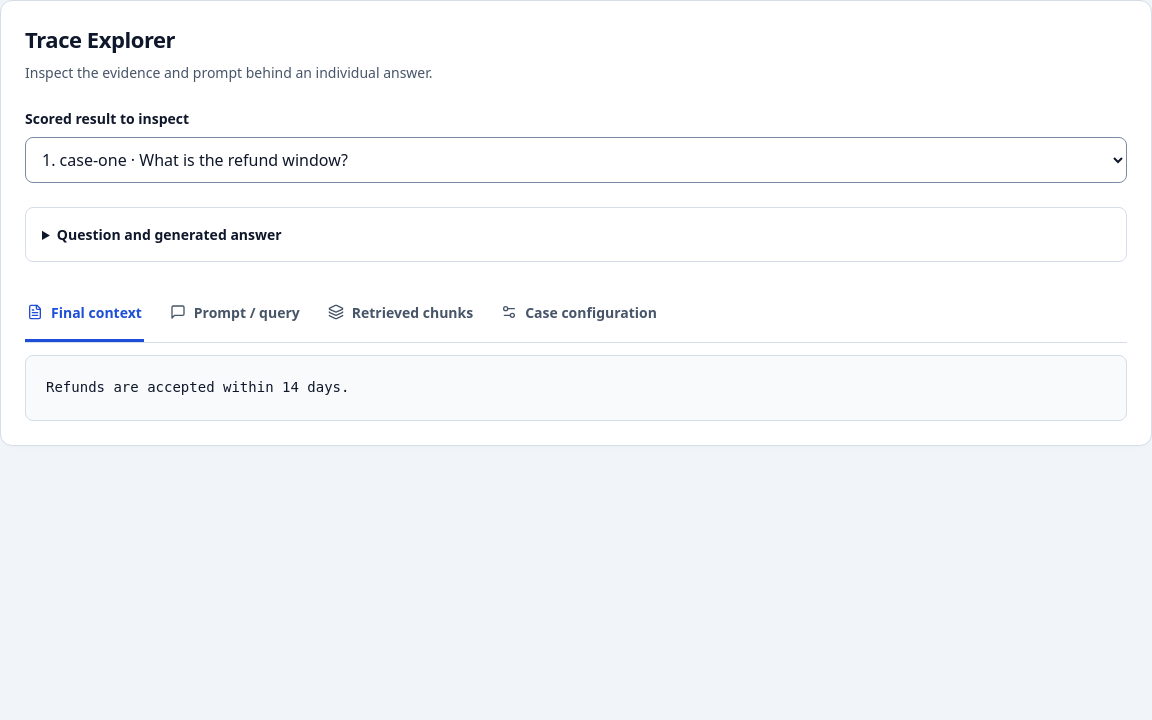
it: workspace workflows › shows saved context, rewritten queries and chunk evidence
The width and height of the screenshot is (1152, 720).
Check: the text "Refunds are accepted within 14 days." is shown, box [25,355,1127,421]
Click the button "Prompt / query" at [235, 314], box [168,286,302,342]
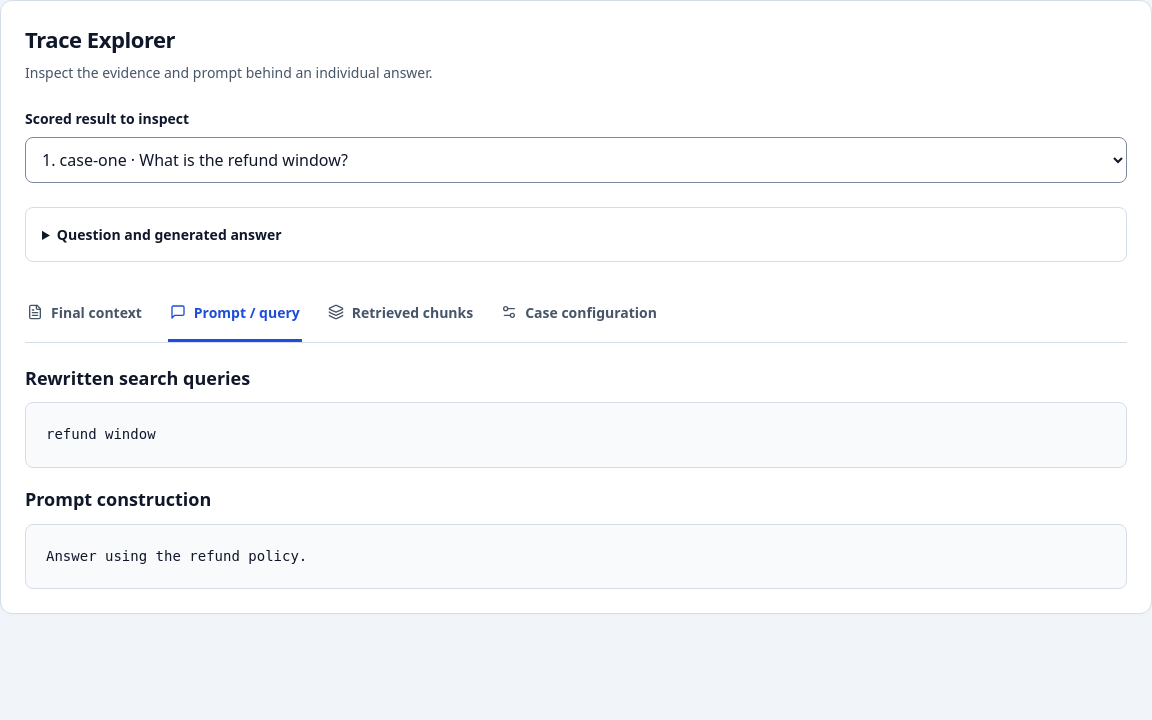
Check: the text "refund window" is shown, box [25,402,1127,468]
Click the button "Retrieved chunks" at [400, 314], box [326,286,475,342]
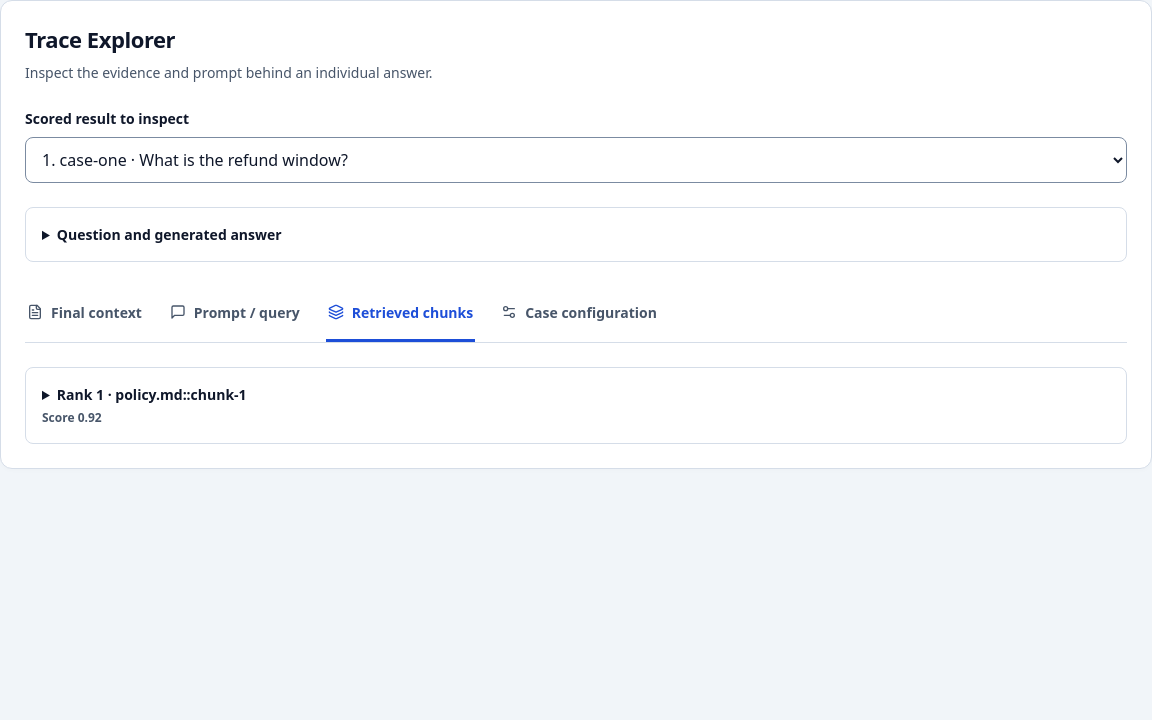
Check: the heading "Rank 1 · policy.md::chunk-1 Score 0.92" is shown, box [42,385,247,426]
